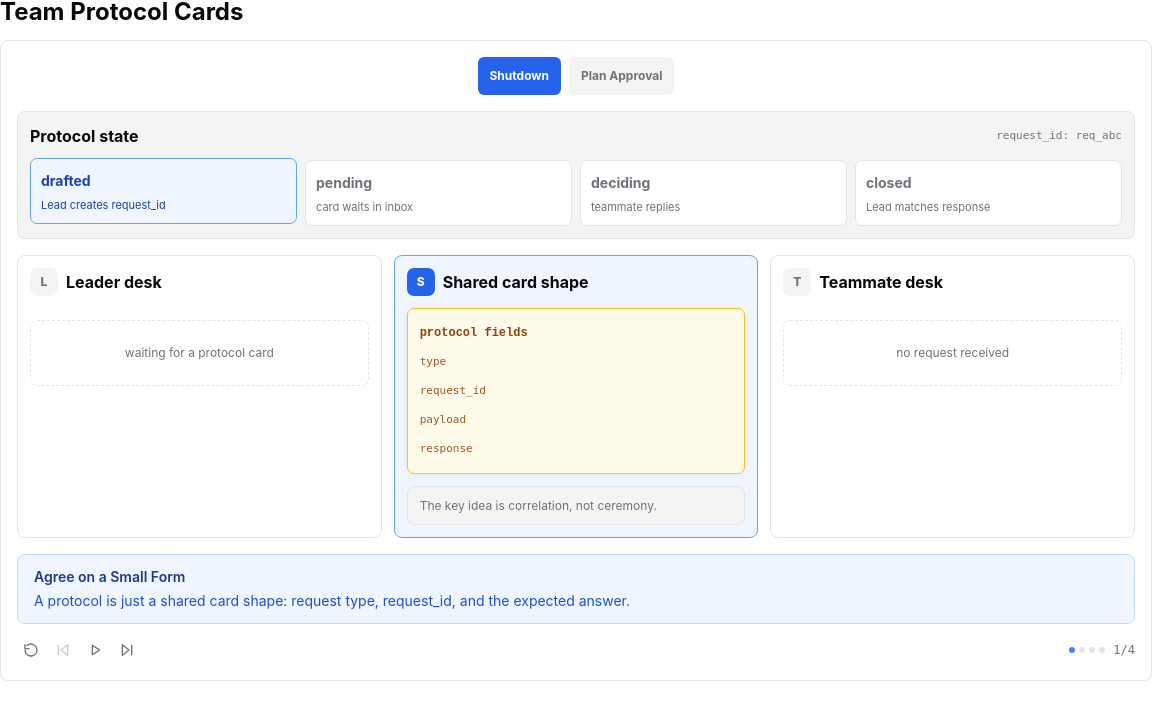
Test case: S16TeamProtocols › switches to plan approval and resets the stepped controls
Click the button titled "Next step".
click(127, 650)  # box top-left (113, 636), bottom-right (141, 664)
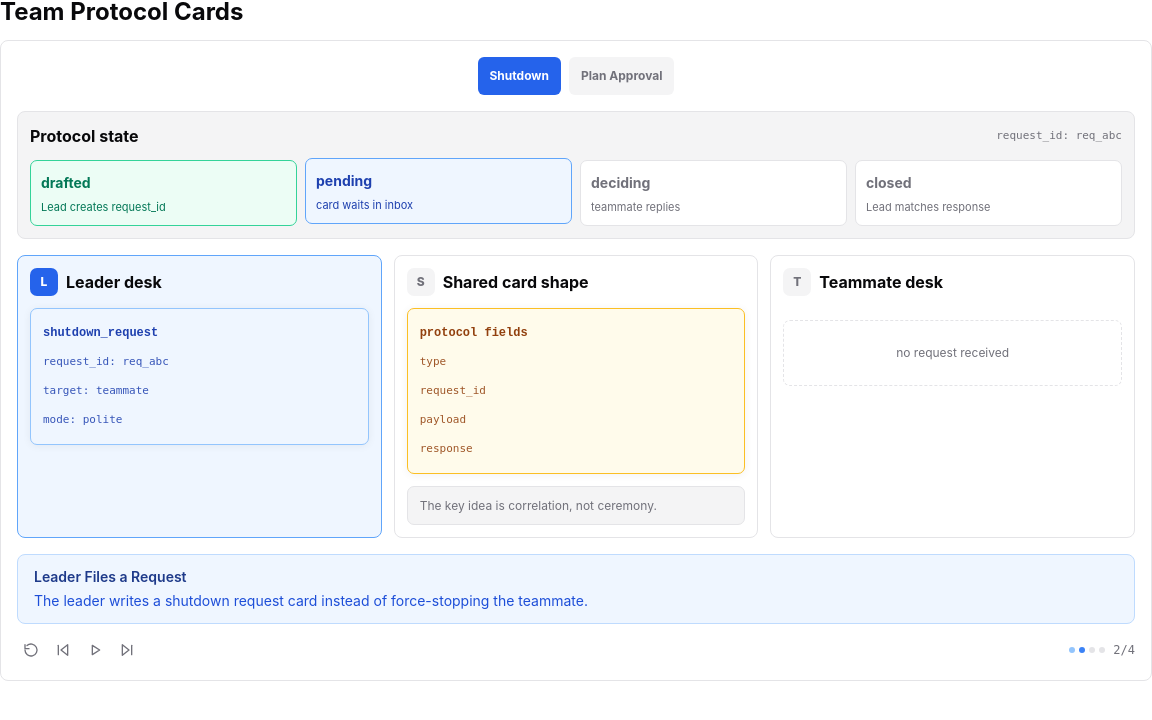
Now the text "shutdown_request" is shown, box top-left (43, 326), bottom-right (158, 340)
Click the button "Plan Approval".
click(622, 76)  # box top-left (569, 57), bottom-right (674, 95)
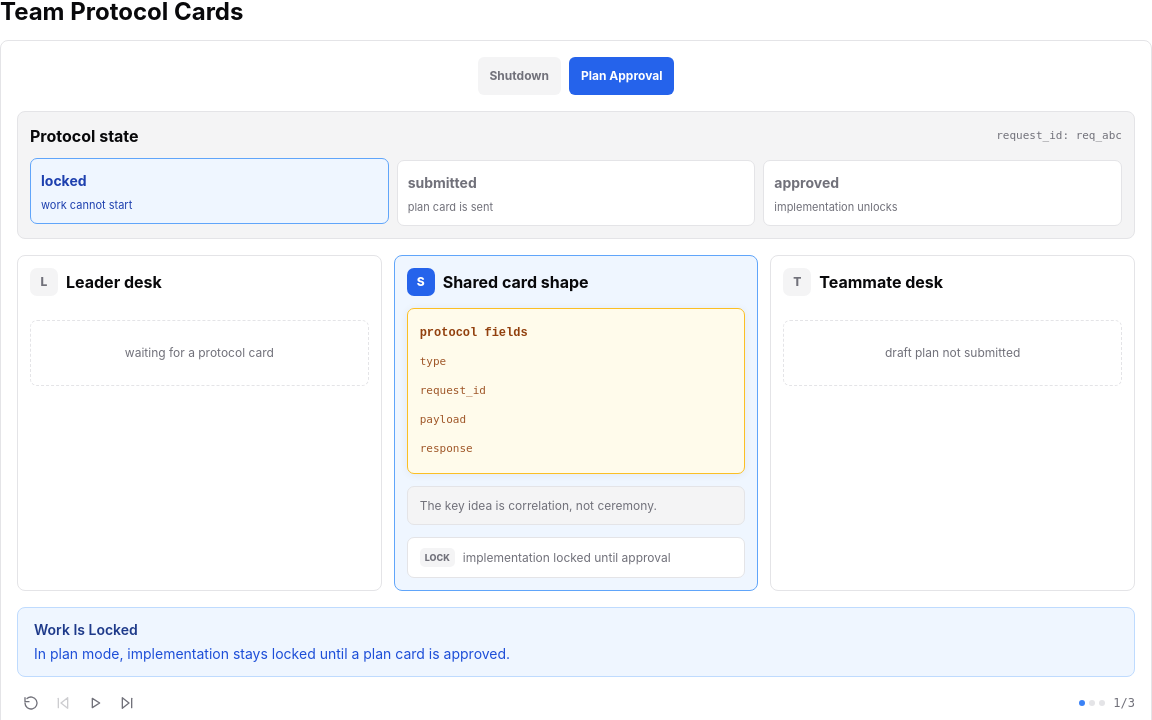
Now the text "Work Is Locked" is shown, box top-left (34, 621), bottom-right (138, 638)
Now the text "draft plan not submitted" is shown, box top-left (783, 320), bottom-right (1122, 386)
Now the text "implementation locked until approval" is shown, box top-left (463, 550), bottom-right (671, 565)
Click the button titled "Next step".
click(127, 703)  # box top-left (113, 689), bottom-right (141, 717)
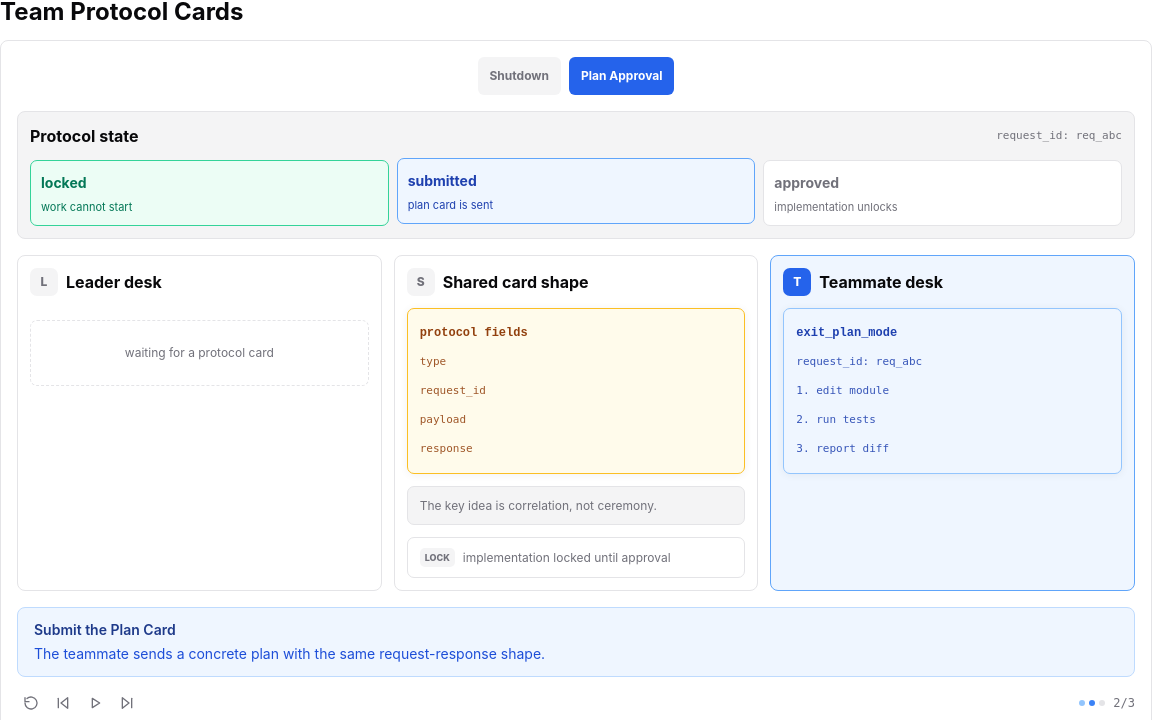
Now the text "Submit the Plan Card" is shown, box top-left (34, 621), bottom-right (176, 638)
Now the text "exit_plan_mode" is shown, box top-left (796, 326), bottom-right (897, 340)
Now the text "1. edit module" is shown, box top-left (796, 384), bottom-right (889, 397)
Click the button titled "Next step".
click(127, 703)  # box top-left (113, 689), bottom-right (141, 717)
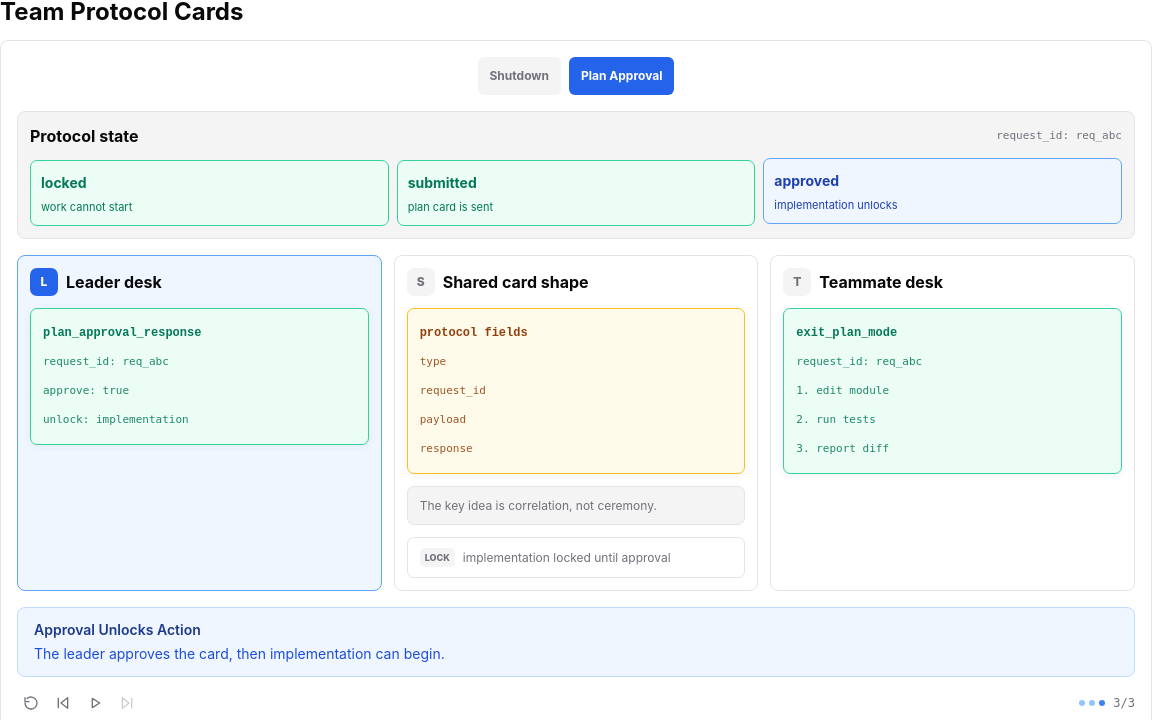
Now the text "Approval Unlocks Action" is shown, box top-left (34, 621), bottom-right (201, 638)
Now the text "plan_approval_response" is shown, box top-left (43, 326), bottom-right (201, 340)
Now the text "unlock: implementation" is shown, box top-left (43, 413), bottom-right (189, 426)
